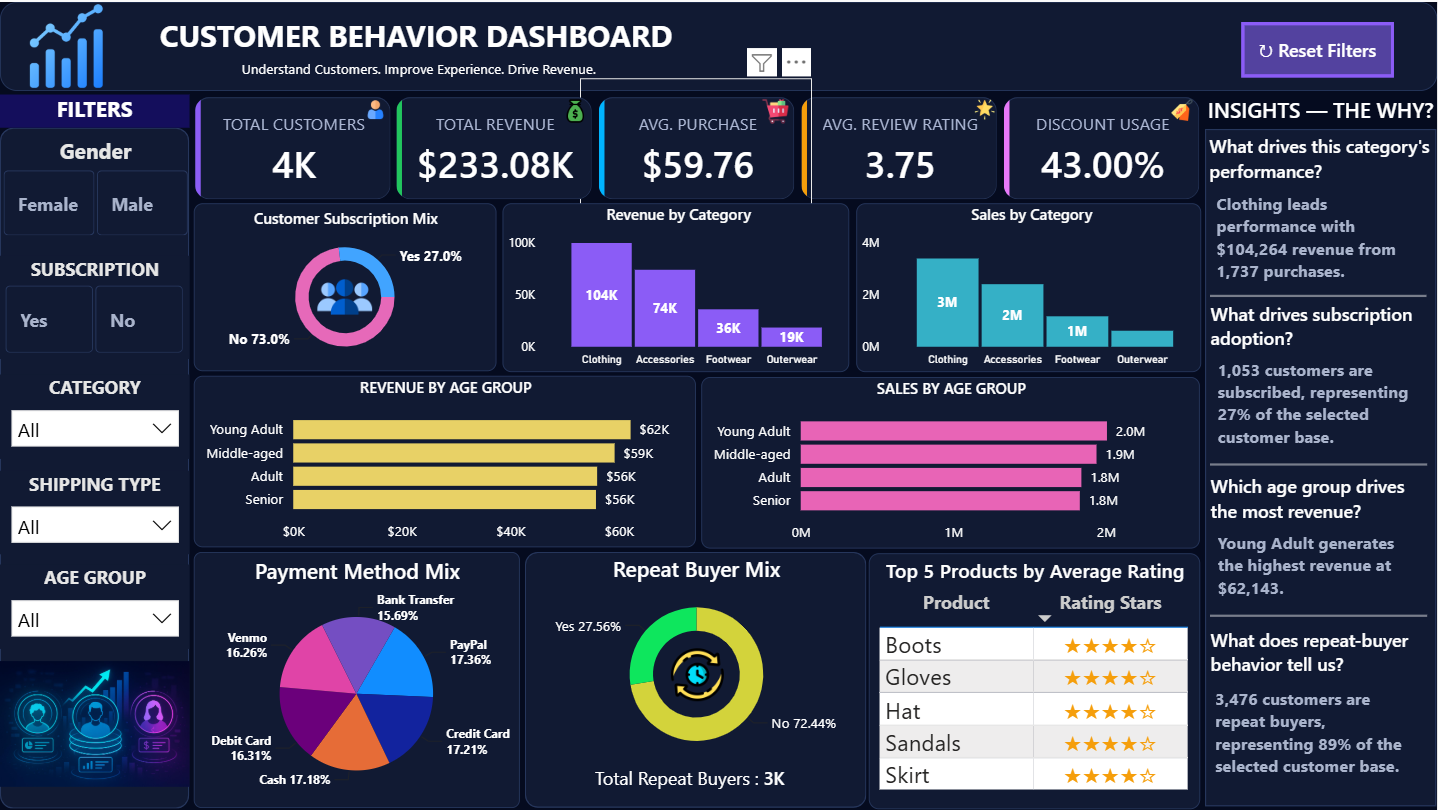

The dashboard page shown, as its layout file describes it:
{"tool":"powerbi","page":{"name":"Page 1","canvas":[1280,720],"ordinal":0},"visuals":[{"type":"shape","title":"INSIGHTS — THE WHY?","box":[1073,83.6,206,633],"z":0},{"type":"shape","box":[467,490,304,227.8],"z":1000},{"type":"textbox","box":[0,0,1280.3,79],"z":2000},{"type":"cardVisual","fields":{"Data":["public customer.Number of Custommers"]},"box":[157,68,208,125],"z":3000},{"type":"cardVisual","fields":{"Data":["public customer.Average Review rating"]},"box":[697,67.4,208,125],"z":4000},{"type":"cardVisual","fields":{"Data":["public customer.Discount Usage %"]},"box":[877,67.4,208,125],"z":5000},{"type":"cardVisual","fields":{"Data":["public customer.Average Purchase Amount"]},"box":[516,67.4,208,125],"z":6000},{"type":"cardVisual","fields":{"Data":["public customer.Total Revenue"]},"box":[336,67.4,208,125],"z":7000},{"type":"image","box":[323,84,24,25],"z":8000},{"type":"image","box":[865,84,25,25],"z":9000},{"type":"image","box":[676,84,30,28],"z":10000},{"type":"image","box":[499,84,28,27],"z":11000},{"type":"image","box":[1040,84,26,26],"z":12000},{"type":"shape","title":"FILTERS","box":[0,82.2,168.5,636.1],"z":13000},{"type":"advancedSlicerVisual","title":"SUBSCRIPTION","fields":{"Values":["public customer.subscription_status"]},"box":[0,226.4,169,91.6],"z":14000},{"type":"advancedSlicerVisual","title":"Gender","fields":{"Values":["public customer.gender"]},"box":[0,119.9,169,93],"z":15000},{"type":"slicer","title":"CATEGORY","fields":{"Values":["public customer.category"]},"box":[0,331.5,169,75.5],"z":16000},{"type":"slicer","title":"SHIPPING TYPE","fields":{"Values":["public customer.shipping_type"]},"box":[0,417.8,169,74.1],"z":17000},{"type":"slicer","title":"AGE GROUP","fields":{"Values":["public customer.age_group"]},"box":[0,501.3,169,75.5],"z":18000},{"type":"donutChart","title":"Customer Subscription Mix","fields":{"Category":["public customer.subscription_status"],"Y":["CountNonNull(public customer.customer_id)"]},"box":[173,179,269.5,149.6],"z":19000},{"type":"image","box":[279,238,55.3,48.5],"z":20000},{"type":"clusteredColumnChart","title":"Revenue by Category","fields":{"Category":["public customer.category"],"Y":["Sum(public customer.purchase_amount)"]},"box":[447,179,308.6,150],"z":21000},{"type":"clusteredColumnChart","title":"Sales by Category","fields":{"Category":["public customer.category"],"Y":["Sum(public customer.customer_id)"]},"box":[762,179,307,150],"z":22000},{"type":"clusteredBarChart","title":"REVENUE BY AGE GROUP","fields":{"Category":["public customer.age_group"],"Y":["public customer.Total Revenue"]},"box":[172.5,333,447.4,153],"z":23000},{"type":"clusteredBarChart","title":"SALES BY AGE GROUP","fields":{"Category":["public customer.age_group"],"Y":["Sum(public customer.customer_id)"]},"box":[624,334.2,444,153],"z":24000},{"type":"tableEx","title":"Top 5 Products by Average Rating","fields":{"Values":["public customer.item_purchased","public customer.Rating Display"]},"box":[774,490.5,295.1,228],"z":25000},{"type":"donutChart","title":"Repeat Buyer Mix","fields":{"Category":["public customer.subscription_status"],"Y":["public customer.Repeat Buyers"]},"box":[455.5,491.9,330.2,188.7],"z":26000},{"type":"cardVisual","fields":{"Data":["public customer.Repeat Buyers"]},"box":[501.3,606.4,235.8,113.2],"z":27000},{"type":"pieChart","title":"Payment Method Mix","fields":{"Category":["public customer.payment_method"],"Y":["CountNonNull(public customer.customer_id)"]},"box":[172,490,290,228],"z":28000},{"type":"image","box":[13.5,0,91.6,78.2],"z":29000},{"type":"image","box":[0,567.4,168.5,150.9],"z":30000},{"type":"cardVisual","fields":{"Data":["public customer.Category Insight"]},"box":[1066,137,212.9,142.9],"z":31000},{"type":"textbox","box":[1072.7,262,207.3,59.8],"z":32000},{"type":"shape","box":[1078,245,193,33.7],"z":33000},{"type":"cardVisual","fields":{"Data":["public customer.Subscription Insight"]},"box":[1067.1,284,212.9,143.3],"z":34000},{"type":"textbox","box":[1072.5,112,207.5,59.3],"z":35000},{"type":"shape","box":[1078,395,193.4,33.4],"z":36000},{"type":"textbox","box":[1072.7,415,207.3,59.8],"z":37000},{"type":"textbox","box":[1072.7,552.3,207.3,59.8],"z":38000},{"type":"cardVisual","fields":{"Data":["public customer.Age Group Insight"]},"box":[1067.1,429,212.9,143.3],"z":39000},{"type":"shape","box":[1078,530,193.4,33.4],"z":40000},{"type":"cardVisual","fields":{"Data":["public customer.Repeat Buyer Insight"]},"box":[1065,579,212.9,141],"z":41000},{"type":"actionButton","box":[1105.1,18.1,136.3,49.5],"z":42000},{"type":"image","box":[571,575,100.1,47.1],"z":42001}]}

Visuals, with their boxes in screenshot pixels (x1, y1, x2, y2), scaled from the page's 1280x720 canvas onto the 1438x810 screenshot:
"INSIGHTS — THE WHY?" shape: bbox(1205, 94, 1437, 806)
shape: bbox(525, 551, 866, 808)
textbox: bbox(0, 0, 1437, 89)
cardVisual - public customer.Number of Custommers: bbox(176, 76, 410, 217)
cardVisual - public customer.Average Review rating: bbox(783, 76, 1017, 216)
cardVisual - public customer.Discount Usage %: bbox(985, 76, 1219, 216)
cardVisual - public customer.Average Purchase Amount: bbox(580, 76, 813, 216)
cardVisual - public customer.Total Revenue: bbox(377, 76, 611, 216)
image: bbox(363, 94, 390, 123)
image: bbox(972, 94, 1000, 123)
image: bbox(759, 94, 793, 126)
image: bbox(561, 94, 592, 125)
image: bbox(1168, 94, 1198, 124)
"FILTERS" shape: bbox(0, 92, 189, 808)
"SUBSCRIPTION" advancedSlicerVisual: bbox(0, 255, 190, 358)
"Gender" advancedSlicerVisual: bbox(0, 135, 190, 240)
"CATEGORY" slicer: bbox(0, 373, 190, 458)
"SHIPPING TYPE" slicer: bbox(0, 470, 190, 553)
"AGE GROUP" slicer: bbox(0, 564, 190, 649)
"Customer Subscription Mix" donutChart: bbox(194, 201, 497, 370)
image: bbox(313, 268, 376, 322)
"Revenue by Category" clusteredColumnChart: bbox(502, 201, 849, 370)
"Sales by Category" clusteredColumnChart: bbox(856, 201, 1201, 370)
"REVENUE BY AGE GROUP" clusteredBarChart: bbox(194, 375, 696, 547)
"SALES BY AGE GROUP" clusteredBarChart: bbox(701, 376, 1200, 548)
"Top 5 Products by Average Rating" tableEx: bbox(870, 552, 1201, 808)
"Repeat Buyer Mix" donutChart: bbox(512, 553, 883, 766)
cardVisual - public customer.Repeat Buyers: bbox(563, 682, 828, 809)
"Payment Method Mix" pieChart: bbox(193, 551, 519, 808)
image: bbox(15, 0, 118, 88)
image: bbox(0, 638, 189, 808)
cardVisual - public customer.Category Insight: bbox(1198, 154, 1437, 315)
textbox: bbox(1205, 295, 1437, 362)
shape: bbox(1211, 276, 1428, 314)
cardVisual - public customer.Subscription Insight: bbox(1199, 320, 1437, 481)
textbox: bbox(1205, 126, 1437, 193)
shape: bbox(1211, 444, 1428, 482)
textbox: bbox(1205, 467, 1437, 534)
textbox: bbox(1205, 621, 1437, 689)
cardVisual - public customer.Age Group Insight: bbox(1199, 483, 1437, 644)
shape: bbox(1211, 596, 1428, 634)
cardVisual - public customer.Repeat Buyer Insight: bbox(1196, 651, 1436, 809)
actionButton: bbox(1242, 20, 1395, 76)
image: bbox(641, 647, 754, 700)
